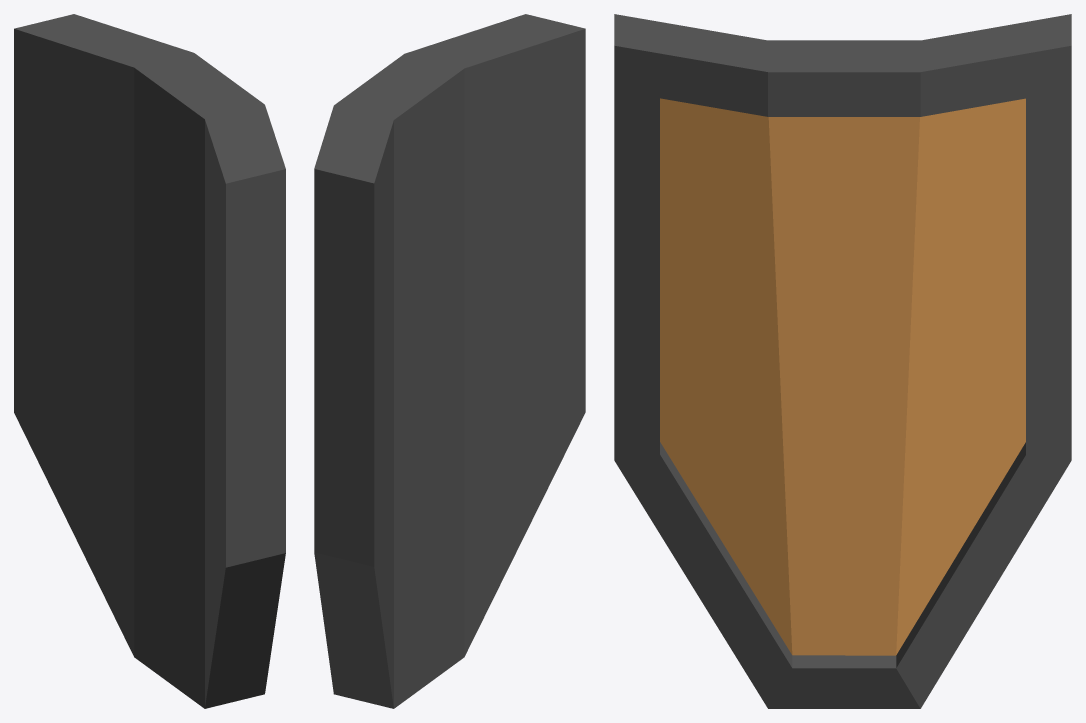
Rendered from Shield.fbx.
3 views of the same model, side by side, from view 1: azimuth 30°, elevation 25°; view 2: azimuth 150°, elevation 25°; view 3: azimuth 270°, elevation 25° (orthographic). The views are drawn at different scales.
Visible parts, largest first — view 1: Cube; view 2: Cube; view 3: Cube.
Boxes of the visible parts, x1=… form: Cube: x1=14, y1=14, x2=285, y2=708; Cube: x1=314, y1=14, x2=585, y2=708; Cube: x1=614, y1=14, x2=1071, y2=708.
Size of the model in its own units: 64.61 by 307 by 200.
